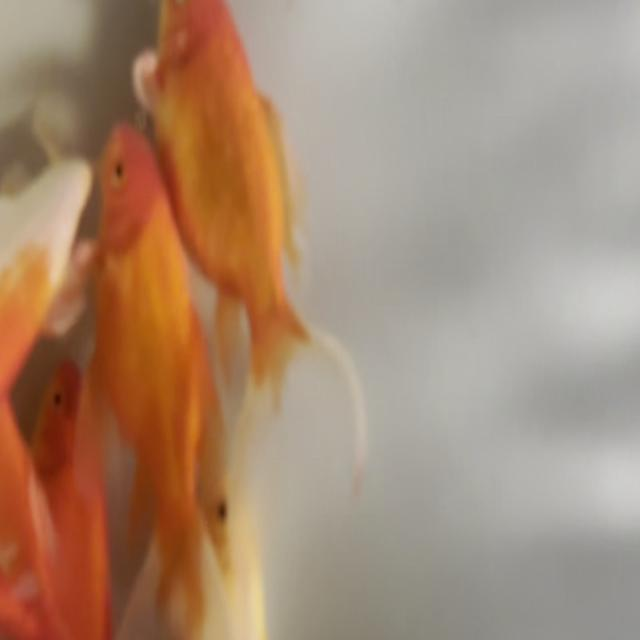fish: (135, 0, 364, 471), (75, 119, 231, 621), (0, 353, 123, 640), (0, 116, 94, 479), (157, 447, 299, 640), (0, 493, 71, 640)
